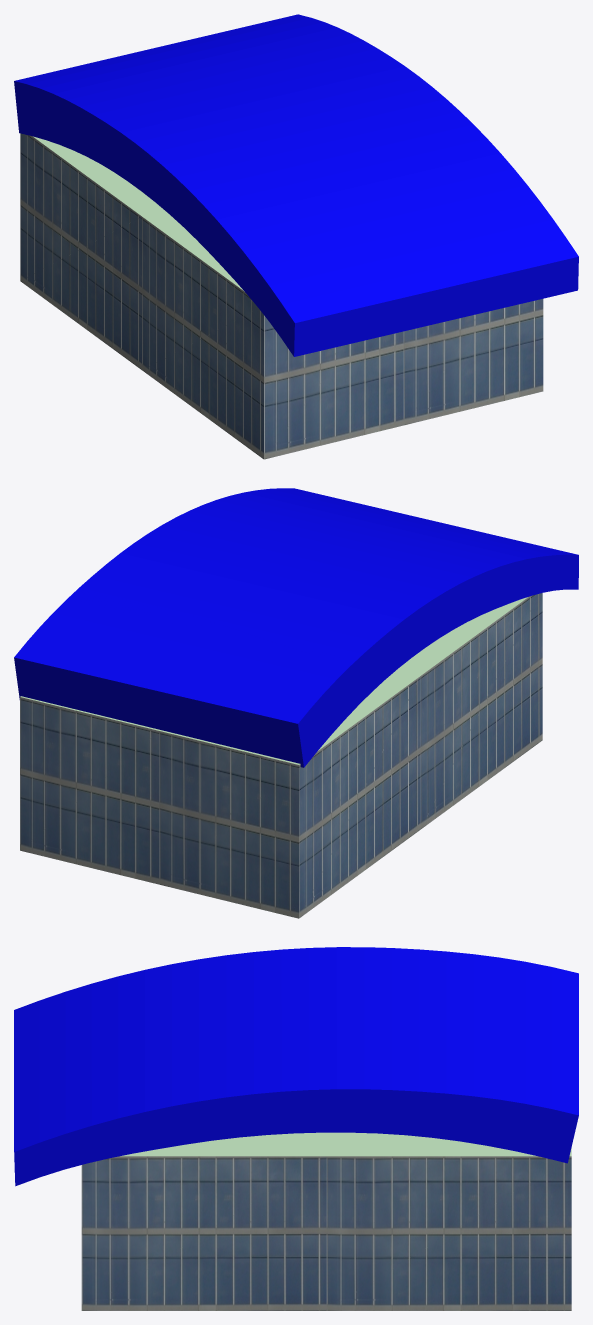
File: xiaoshiguan.fbx
3 views of the same model, one above another, from view 1: azimuth 30°, elevation 25°; view 2: azimuth 150°, elevation 25°; view 3: azimuth 270°, elevation 25° (orthographic).
Visible parts, largest first — view 1: CityEngineMaterial_3_m, CityEngineMaterial_2_m, CityEngineMaterial_m; view 2: CityEngineMaterial_3_m, CityEngineMaterial_2_m, CityEngineMaterial_m; view 3: CityEngineMaterial_3_m, CityEngineMaterial_2_m, CityEngineMaterial_m.
Boxes of the visible parts, x1=… form: CityEngineMaterial_3_m: x1=14, y1=14, x2=578, y2=356; CityEngineMaterial_2_m: x1=20, y1=133, x2=543, y2=459; CityEngineMaterial_m: x1=33, y1=136, x2=244, y2=291; CityEngineMaterial_3_m: x1=14, y1=488, x2=578, y2=767; CityEngineMaterial_2_m: x1=20, y1=593, x2=542, y2=918; CityEngineMaterial_m: x1=20, y1=597, x2=527, y2=764; CityEngineMaterial_3_m: x1=14, y1=947, x2=578, y2=1186; CityEngineMaterial_2_m: x1=81, y1=1156, x2=571, y2=1310; CityEngineMaterial_m: x1=120, y1=1132, x2=571, y2=1156.
Bounding box in the file's own units: 29.08 × 21.89 × 49.69.
